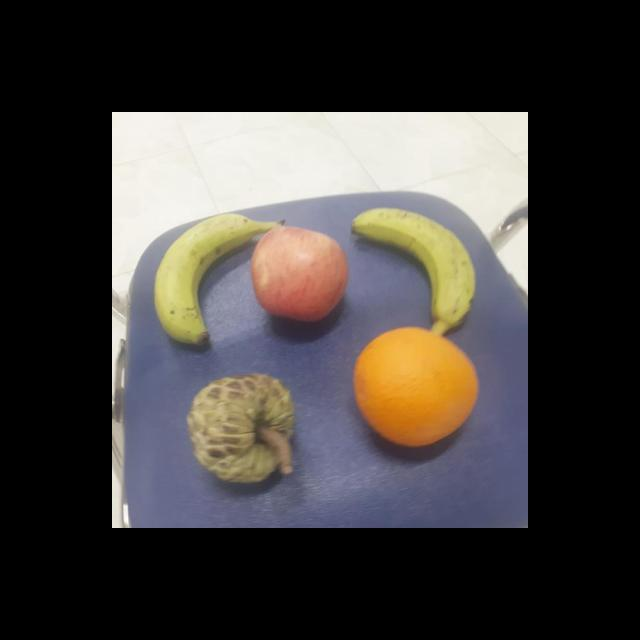Sakya fruit: (185, 372, 296, 482)
apple: (250, 224, 348, 320)
banana: (154, 214, 282, 348), (351, 208, 476, 325)
orange: (352, 327, 480, 442)
